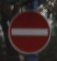No entry: (5, 6, 51, 56)
